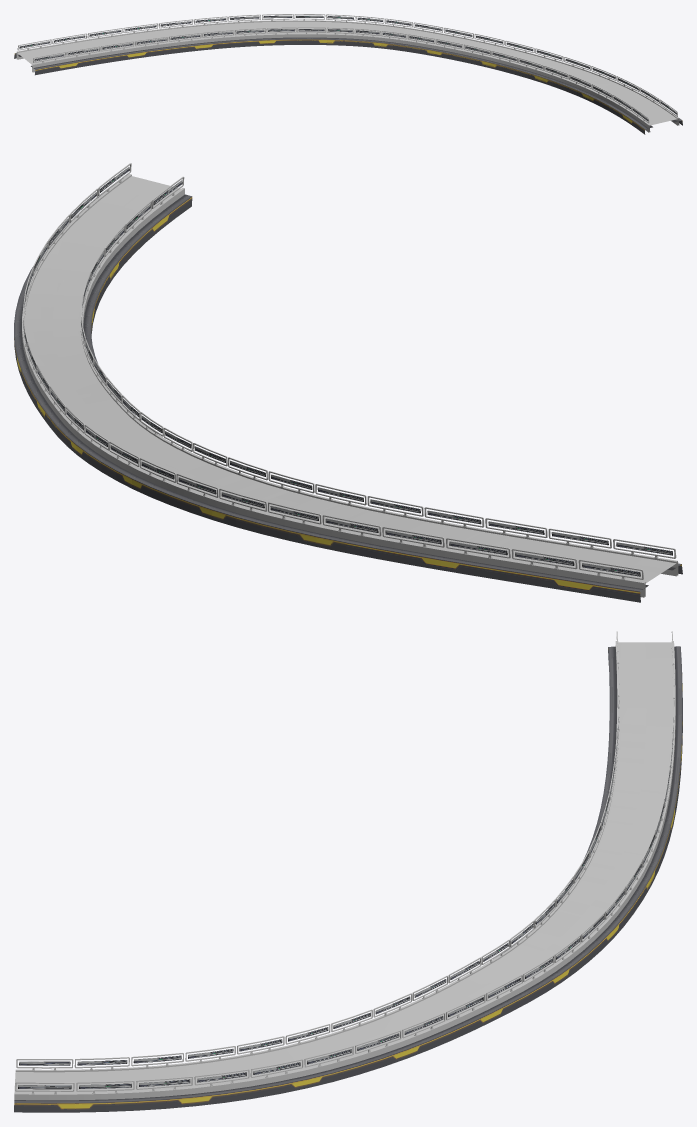
The model's file is mesh_1002_luxian1a.FBX.
3 views of the same model, one above another, from view 1: azimuth 30°, elevation 25°; view 2: azimuth 150°, elevation 25°; view 3: azimuth 270°, elevation 25° (orthographic). The views are drawn at different scales.
Visible parts, largest first — view 1: mesh_1002_luxian1a, mesh_1002_luxian1c, mesh_1002_luxian1b; view 2: mesh_1002_luxian1a, mesh_1002_luxian1c, mesh_1002_luxian1b; view 3: mesh_1002_luxian1a, mesh_1002_luxian1c, mesh_1002_luxian1b.
Part boxes in pixels (bbox=[...]): mesh_1002_luxian1a: bbox=[16, 14, 679, 132]; mesh_1002_luxian1c: bbox=[14, 37, 682, 134]; mesh_1002_luxian1b: bbox=[19, 15, 676, 120]; mesh_1002_luxian1a: bbox=[22, 163, 678, 597]; mesh_1002_luxian1c: bbox=[14, 194, 682, 602]; mesh_1002_luxian1b: bbox=[23, 167, 672, 576]; mesh_1002_luxian1a: bbox=[14, 631, 675, 1100]; mesh_1002_luxian1c: bbox=[14, 646, 682, 1112]; mesh_1002_luxian1b: bbox=[18, 707, 673, 1089].
Size of the model in its own units: 9413 by 1032 by 6783.
